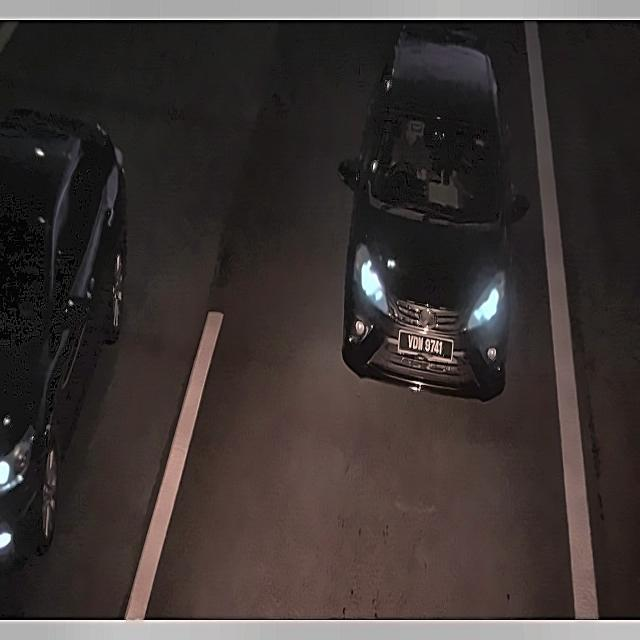car: (393, 323, 456, 367)
